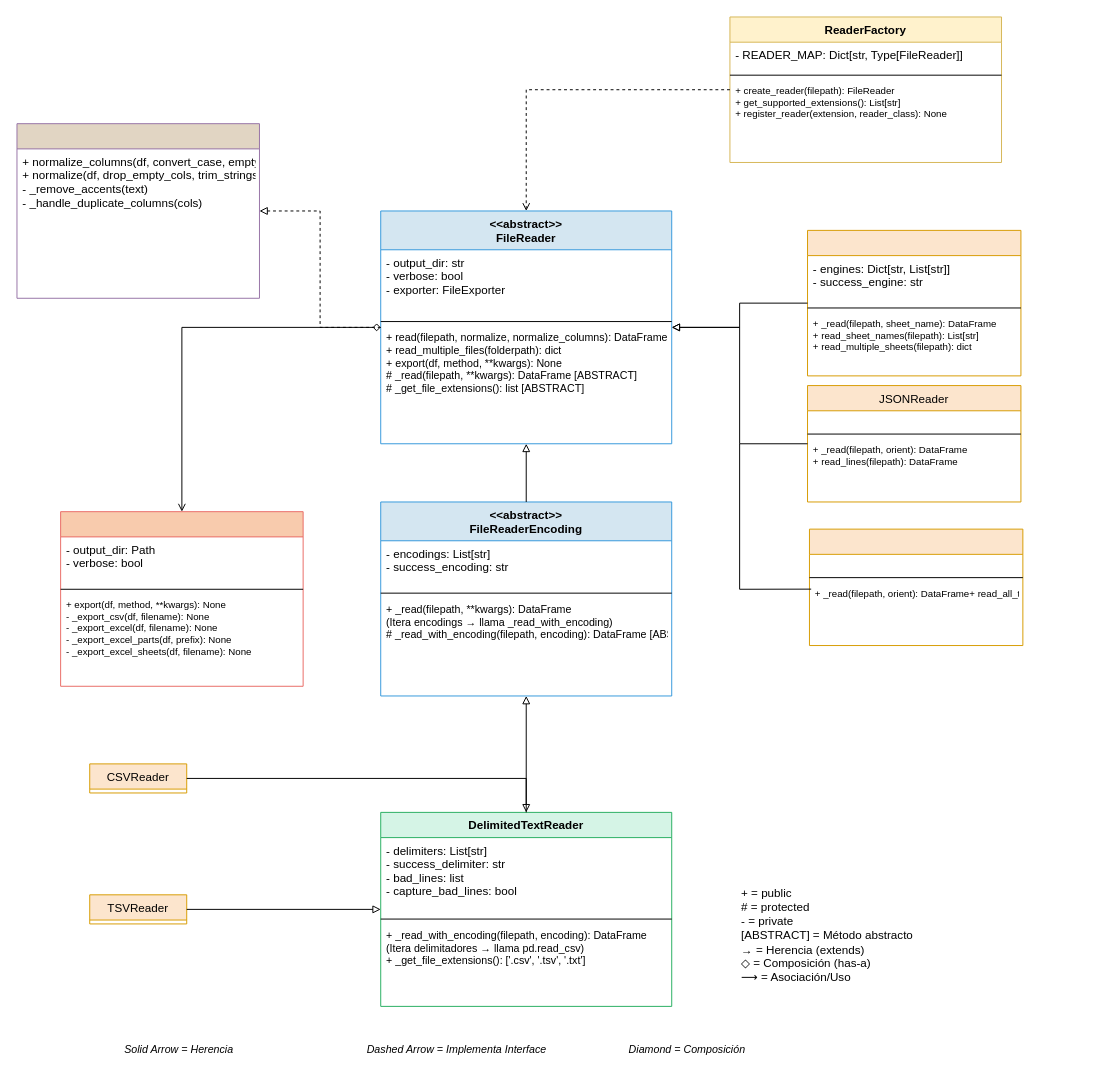
Some shapes in this 1117 by 1082 pixel diagram are drawn without their labels. The box of each missing label's shape, as (x1, y1, x2, y2) in pixels:
ExcelReader: (807, 229, 1021, 376)
FileExporter: (60, 511, 303, 686)
HTMLReader: (808, 528, 1023, 646)
NormalizeMixin: (16, 123, 259, 298)
